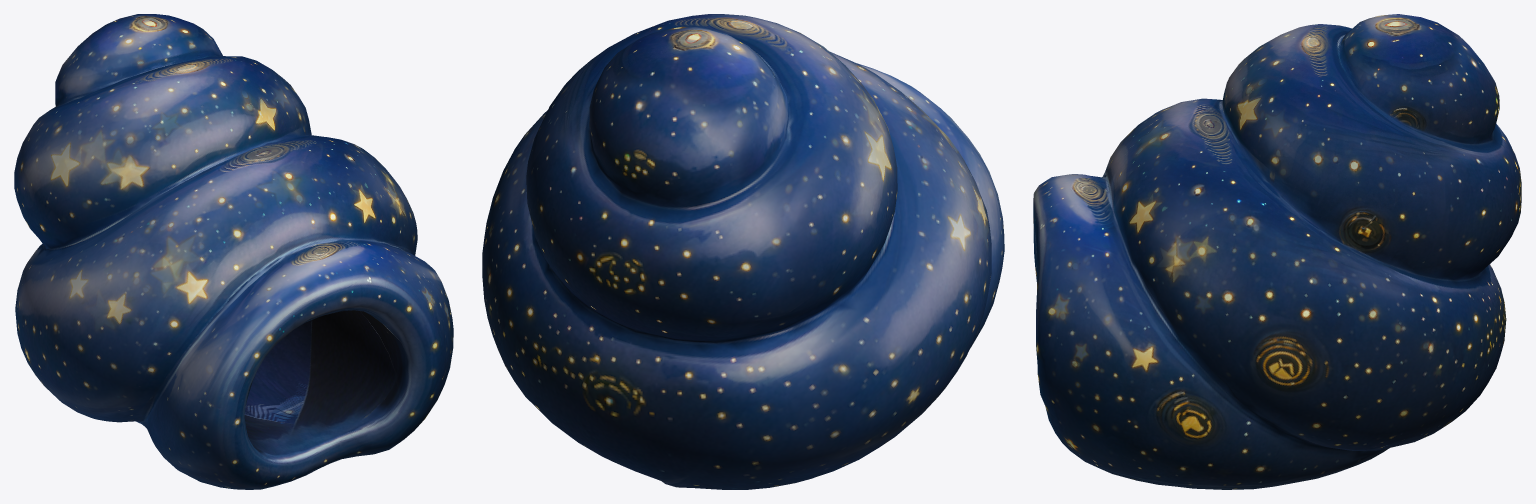
The model's file is crab_starshell.glb.
3 renders of one model, left to right at view 1: azimuth 30°, elevation 25°; view 2: azimuth 150°, elevation 25°; view 3: azimuth 270°, elevation 25°, orthographic. The views are drawn at different scales.
Parts seen in each view (by area): view 1: texture_mapping; view 2: texture_mapping; view 3: texture_mapping.
Part boxes in pixels (x1,y1,x2,y2): texture_mapping: [14, 14, 453, 489]; texture_mapping: [482, 14, 1004, 489]; texture_mapping: [1033, 14, 1521, 489].
Size of the model in its own units: 0.9321 by 0.9084 by 1.
Materials: 1 (1 with a texture image).
